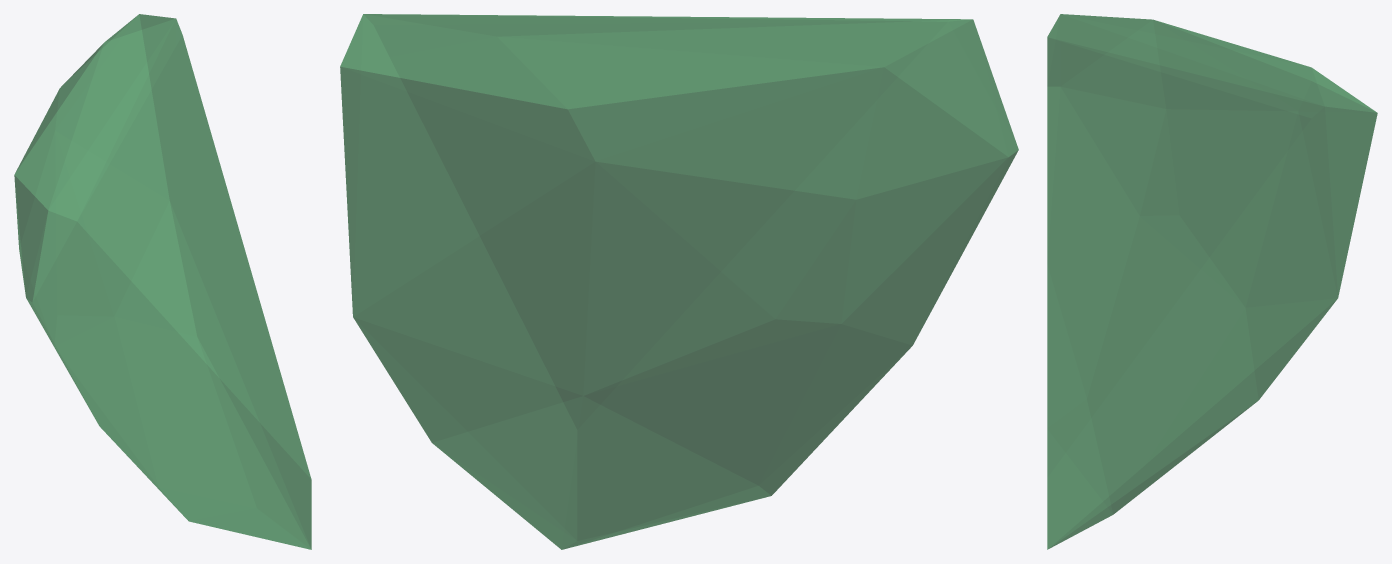
3 renders of one model, left to right at view 1: azimuth 30°, elevation 25°; view 2: azimuth 150°, elevation 25°; view 3: azimuth 270°, elevation 25°, orthographic. The views are drawn at different scales.
Visible parts, largest first — view 1: Shape_IndexedFaceSet.008_Shape_IndexedFaceSet.11429; view 2: Shape_IndexedFaceSet.008_Shape_IndexedFaceSet.11429; view 3: Shape_IndexedFaceSet.008_Shape_IndexedFaceSet.11429.
Boxes of the visible parts, <box> form: Shape_IndexedFaceSet.008_Shape_IndexedFaceSet.11429: <box>14,14,311,549</box>; Shape_IndexedFaceSet.008_Shape_IndexedFaceSet.11429: <box>340,14,1018,549</box>; Shape_IndexedFaceSet.008_Shape_IndexedFaceSet.11429: <box>1047,14,1377,549</box>.
Size of the model in its own units: 0.0468 by 0.0692 by 0.0468.
